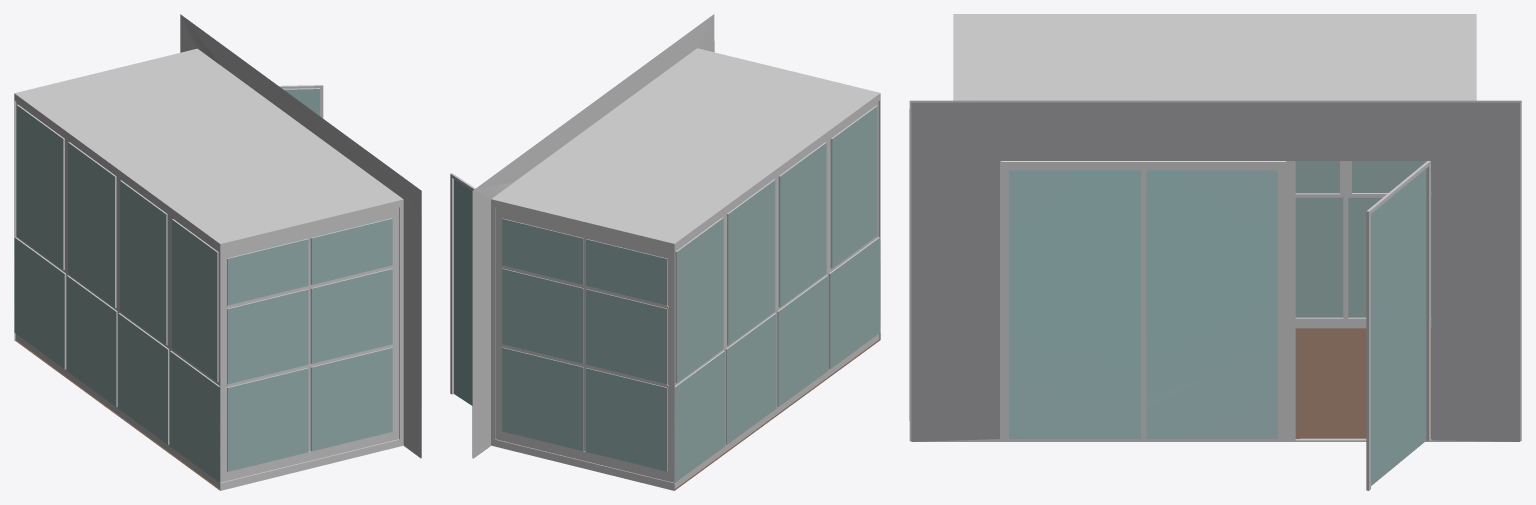
Rendered from New balcony.fbx.
3 views of the same model, side by side, from view 1: azimuth 30°, elevation 25°; view 2: azimuth 150°, elevation 25°; view 3: azimuth 270°, elevation 25° (orthographic). The views are drawn at different scales.
Visible parts, largest first — view 1: New Balcon; view 2: New Balcon; view 3: New Balcon.
Boxes of the visible parts, box(x1,y1,x2,y2) form: New Balcon: box(14, 14, 421, 490); New Balcon: box(450, 14, 880, 490); New Balcon: box(909, 14, 1521, 490).
Bounding box in the file's own units: 2.34 × 3.67 × 2.25.
